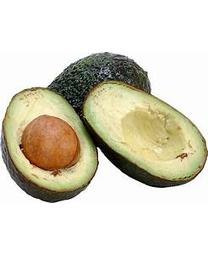avocado: (79, 79, 207, 188), (1, 87, 98, 204), (43, 52, 152, 135)
